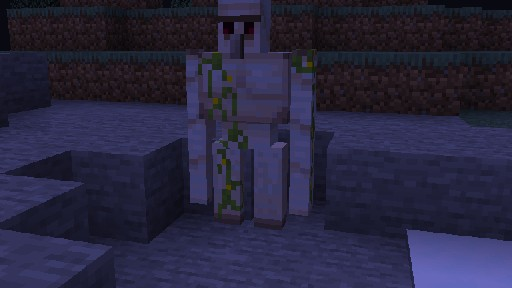iron_golem: (184, 0, 317, 230)
